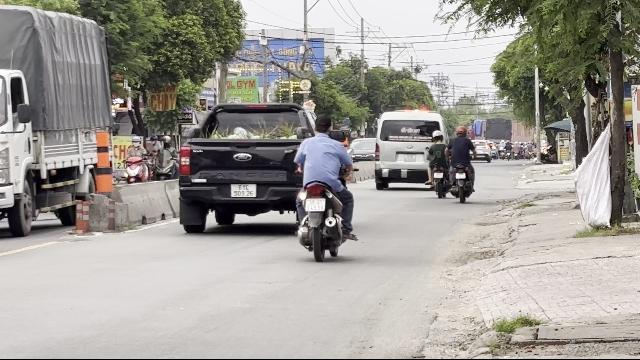licenseplate: (306, 198, 326, 212)
motorcyclist: (290, 113, 358, 260)
nohelmet: (313, 113, 333, 135)
